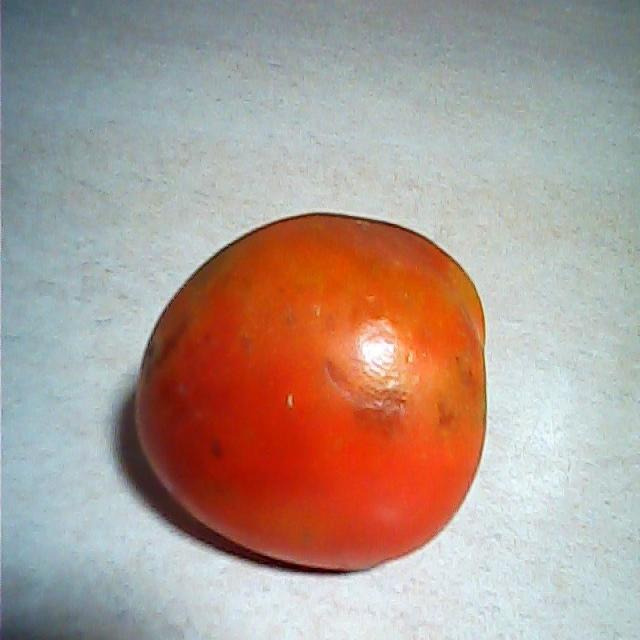maduro: (136, 210, 490, 575)
